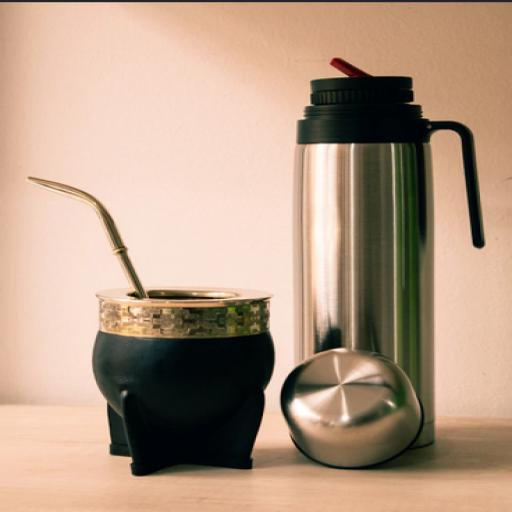mate: (92, 287, 274, 475)
termo: (294, 77, 484, 447)
